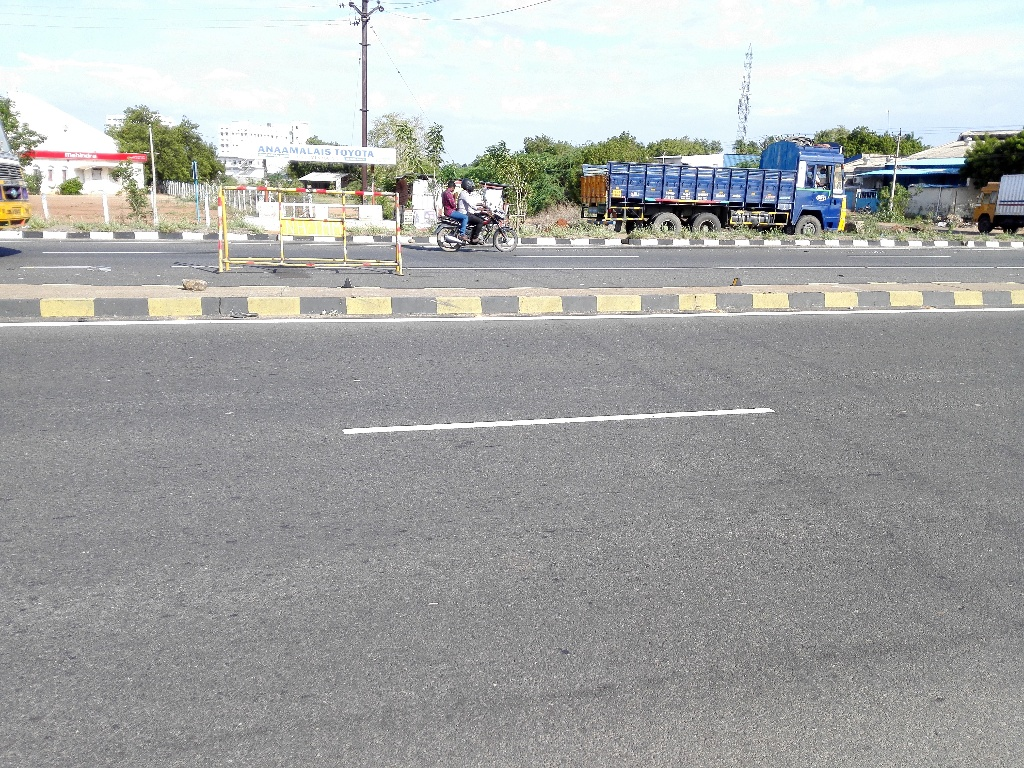biker: (419, 161, 527, 261)
helmet: (460, 173, 477, 196)
nohelmet: (443, 175, 460, 198)
